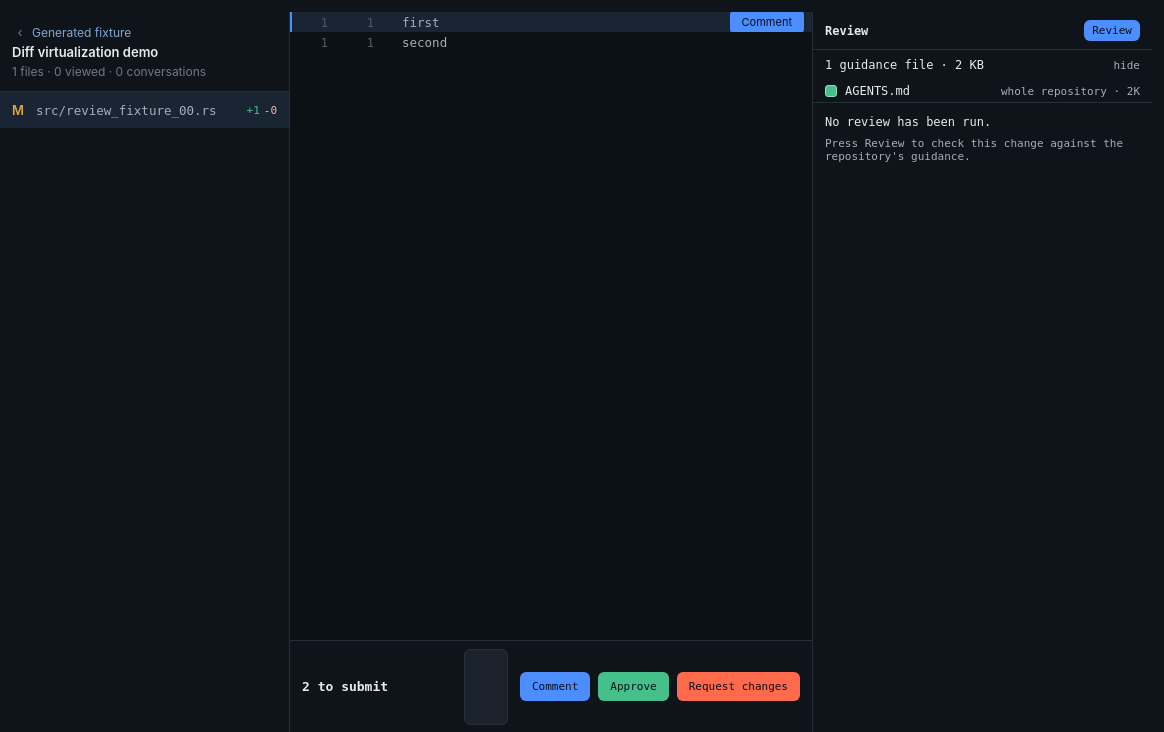
Test: the summary editor › says so when the summary is not reaching storage, with no draft to carry it
Expected: the button "Approve" is shown, [598, 672, 669, 701]
Step 1. Click the field with class "cm-content" → (486, 686), box [465, 650, 507, 724]
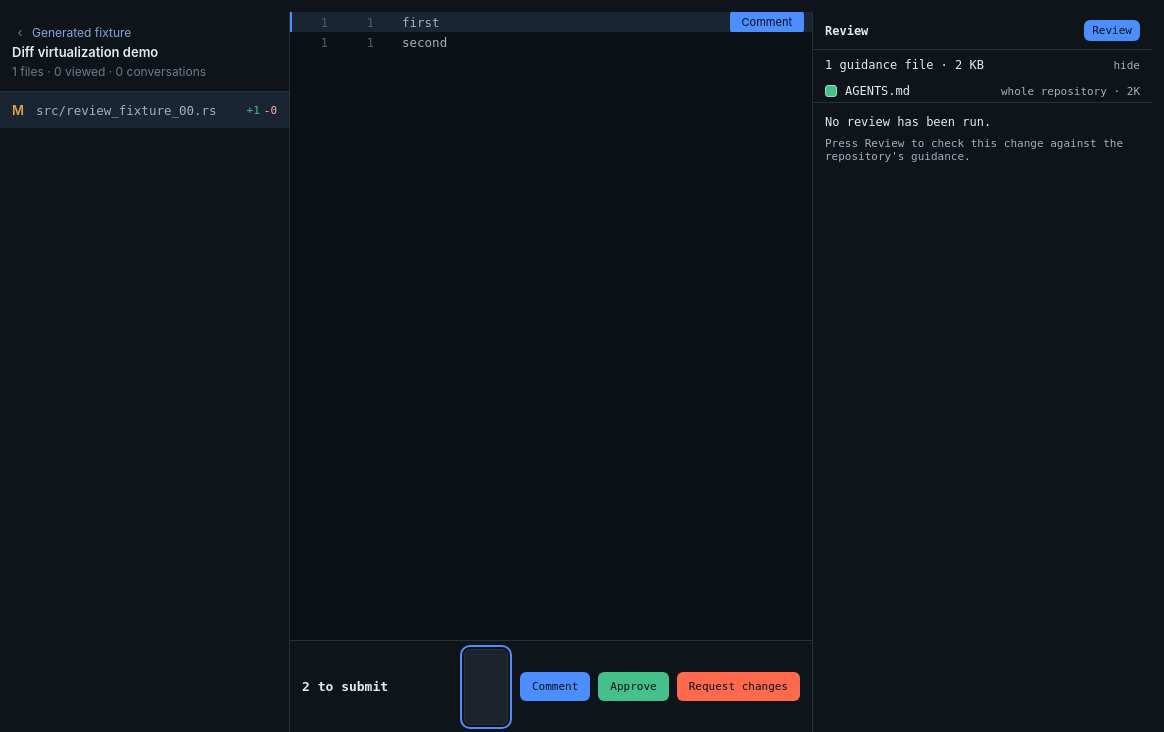
Step 2. Type keys "ok"
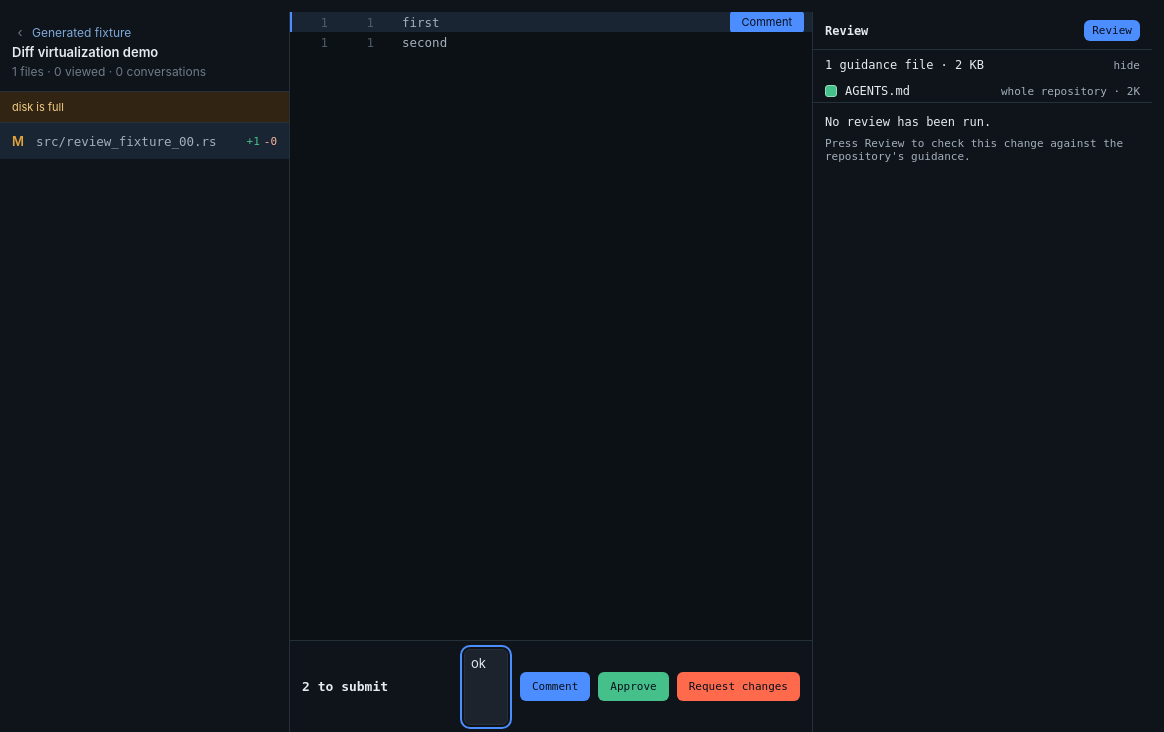
Expected: the text "disk is full" is shown, [12, 100, 64, 114]
